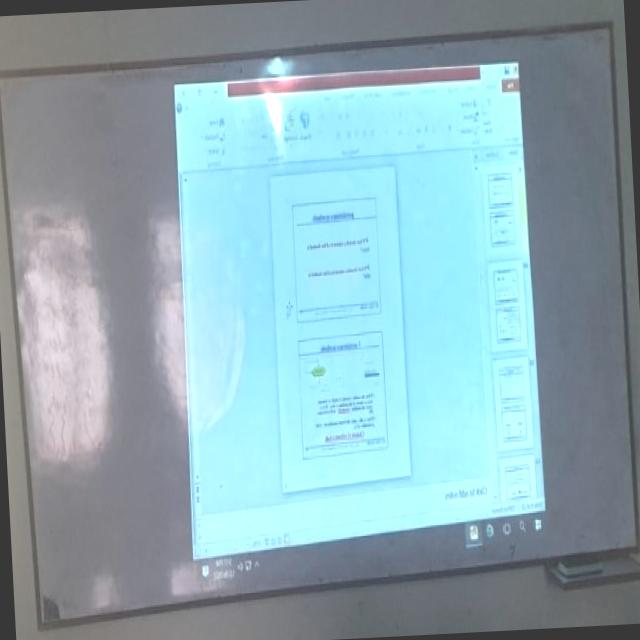Slide: (173, 60, 547, 597)
White-board: (0, 27, 639, 631)
